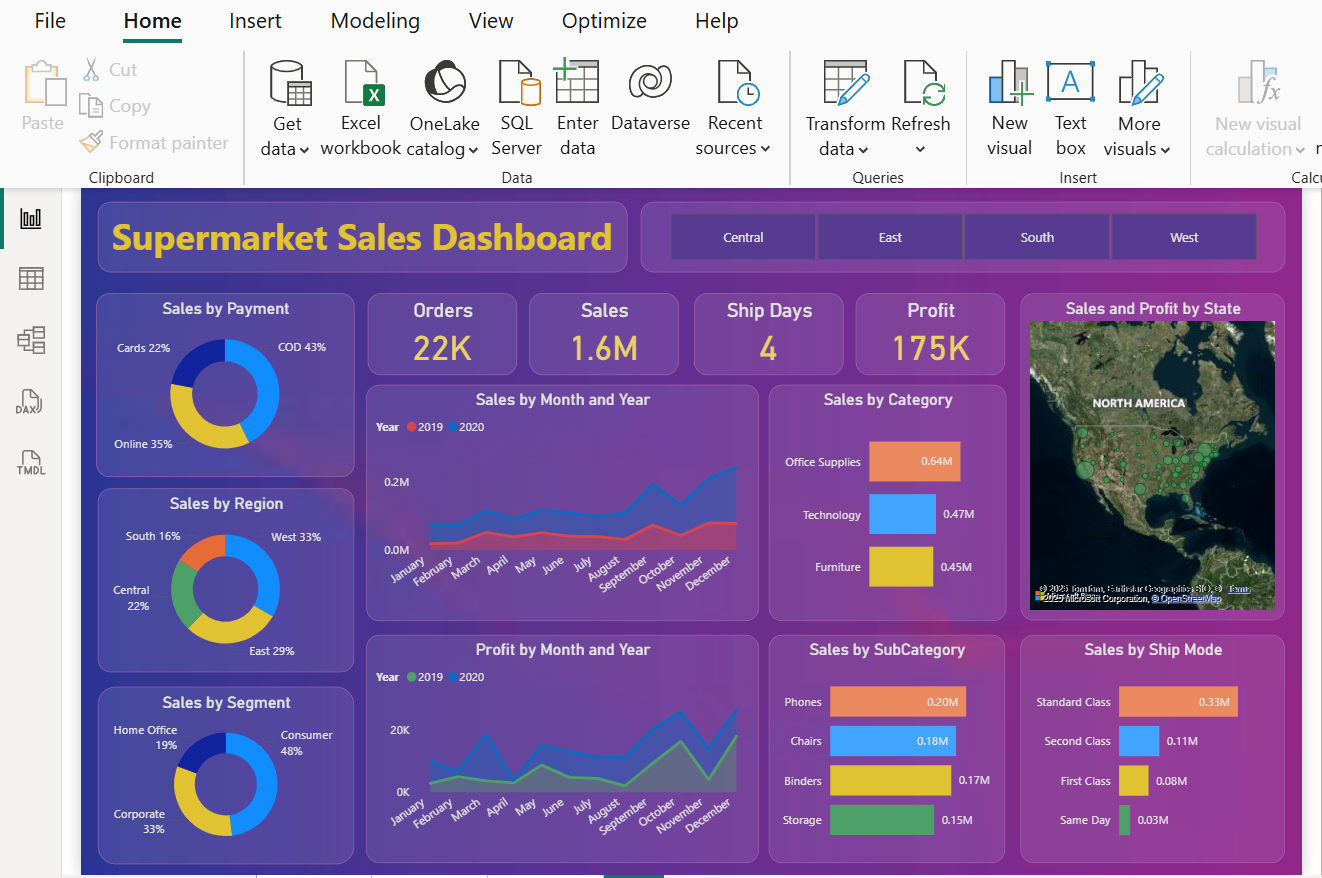

What the dashboard file says about the page in this screenshot:
{"tool":"powerbi","page":{"name":"Page 1","canvas":[1280,720],"ordinal":0},"visuals":[{"type":"clusteredBarChart","title":"Sales by Category","fields":{"Category":["SuperStore_Sales_Dataset.Category"],"Y":["Sum(SuperStore_Sales_Dataset.Sales)"]},"box":[721.3,206.6,249.2,247.5],"z":0},{"type":"clusteredBarChart","title":"Sales by SubCategory","fields":{"Category":["SuperStore_Sales_Dataset.Sub-Category"],"Y":["Sum(SuperStore_Sales_Dataset.Sales)"]},"box":[721.3,468.9,247.5,239.3],"z":1000},{"type":"clusteredBarChart","title":"Sales by Ship Mode","fields":{"Category":["SuperStore_Sales_Dataset.Ship Mode"],"Y":["Sum(SuperStore_Sales_Dataset.Sales)"]},"box":[984.5,469,277.6,239.7],"z":2000},{"type":"stackedAreaChart","title":"Sales by Month and Year","fields":{"Y":["Sum(SuperStore_Sales_Dataset.Sales)"],"Category":["SuperStore_Sales_Dataset.Order Date.Variation.Date Hierarchy.Month","SuperStore_Sales_Dataset.Order Date.Variation.Date Hierarchy.Day"],"Series":["SuperStore_Sales_Dataset.Order Date.Variation.Date Hierarchy.Year"]},"box":[298.4,206.6,411.5,247.5],"z":3000},{"type":"stackedAreaChart","title":"Profit by Month and Year","fields":{"Category":["SuperStore_Sales_Dataset.Order Date.Variation.Date Hierarchy.Month","SuperStore_Sales_Dataset.Order Date.Variation.Date Hierarchy.Day"],"Series":["SuperStore_Sales_Dataset.Order Date.Variation.Date Hierarchy.Year"],"Y":["Sum(SuperStore_Sales_Dataset.Profit)"]},"box":[298.4,468.9,411.5,239.3],"z":4000},{"type":"donutChart","title":"Sales by Segment","fields":{"Category":["SuperStore_Sales_Dataset.Segment"],"Y":["Sum(SuperStore_Sales_Dataset.Sales)"]},"box":[17.2,522.4,269,186.2],"z":5000},{"type":"donutChart","title":"Sales by Payment","fields":{"Category":["SuperStore_Sales_Dataset.Payment Mode"],"Y":["Sum(SuperStore_Sales_Dataset.Sales)"]},"box":[15.5,110.3,270.7,193.1],"z":6000},{"type":"slicer","fields":{"Values":["SuperStore_Sales_Dataset.Region"]},"box":[586.2,13.8,675.9,74.1],"z":7000},{"type":"map","title":"Sales and Profit by State","fields":{"Category":["SuperStore_Sales_Dataset.State"],"Size":["Sum(SuperStore_Sales_Dataset.Sales)"]},"box":[984.5,110.3,277.6,343.1],"z":8000},{"type":"textbox","box":[17.2,13.8,555.2,74.1],"z":9000},{"type":"card","title":"Sales","fields":{"Values":["Sum(SuperStore_Sales_Dataset.Sales)"]},"box":[470.7,110.3,156.9,86.2],"z":10000},{"type":"card","title":"Orders","fields":{"Values":["Sum(SuperStore_Sales_Dataset.Quantity)"]},"box":[300,110.3,156.9,86.2],"z":11000},{"type":"card","title":"Profit","fields":{"Values":["Sum(SuperStore_Sales_Dataset.Profit)"]},"box":[812.1,110.3,156.9,86.2],"z":12000},{"type":"card","title":"Ship Days","fields":{"Values":["Avg(SuperStore_Sales_Dataset.AvgDelivery)"]},"box":[643.1,110.3,156.9,86.2],"z":13000},{"type":"donutChart","title":"Sales by Region ","fields":{"Category":["SuperStore_Sales_Dataset.Region"],"Y":["Sum(SuperStore_Sales_Dataset.Sales)"]},"box":[17.2,315.5,269,193.1],"z":14000}]}

Visuals, with their boxes on the page's 1280x720 design canvas (x1, y1, x2, y2). These are canvas units, not pixel positions in the 1322x878 screenshot, which may show the page scaled, cropped or inside an application window:
"Sales by Category" clusteredBarChart: bbox=(721, 207, 970, 454)
"Sales by SubCategory" clusteredBarChart: bbox=(721, 469, 969, 708)
"Sales by Ship Mode" clusteredBarChart: bbox=(984, 469, 1262, 709)
"Sales by Month and Year" stackedAreaChart: bbox=(298, 207, 710, 454)
"Profit by Month and Year" stackedAreaChart: bbox=(298, 469, 710, 708)
"Sales by Segment" donutChart: bbox=(17, 522, 286, 709)
"Sales by Payment" donutChart: bbox=(16, 110, 286, 303)
slicer - SuperStore_Sales_Dataset.Region: bbox=(586, 14, 1262, 88)
"Sales and Profit by State" map: bbox=(984, 110, 1262, 453)
textbox: bbox=(17, 14, 572, 88)
"Sales" card: bbox=(471, 110, 628, 196)
"Orders" card: bbox=(300, 110, 457, 196)
"Profit" card: bbox=(812, 110, 969, 196)
"Ship Days" card: bbox=(643, 110, 800, 196)
"Sales by Region " donutChart: bbox=(17, 316, 286, 509)
